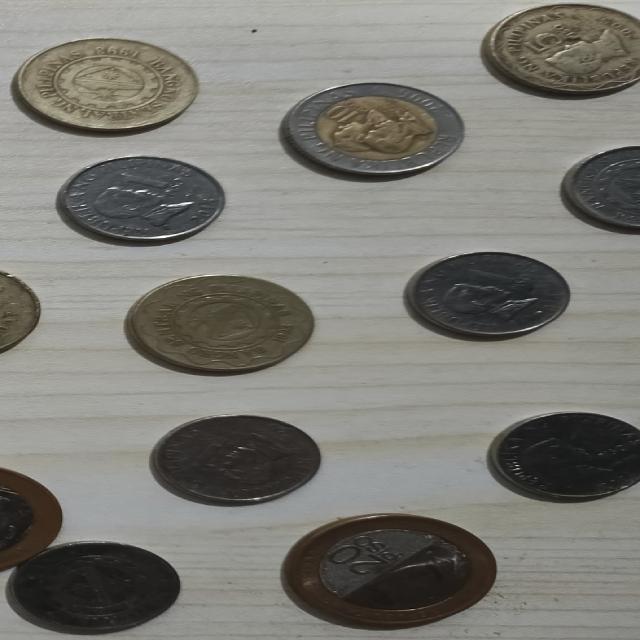10_peso: (284, 83, 463, 176)
1_peso: (8, 541, 179, 633), (153, 416, 319, 505), (60, 157, 223, 241), (406, 252, 567, 336), (492, 412, 639, 497), (564, 147, 639, 228)
20_peso: (284, 514, 495, 628)
5_peso: (130, 275, 312, 372), (16, 39, 196, 129), (483, 3, 639, 94)
